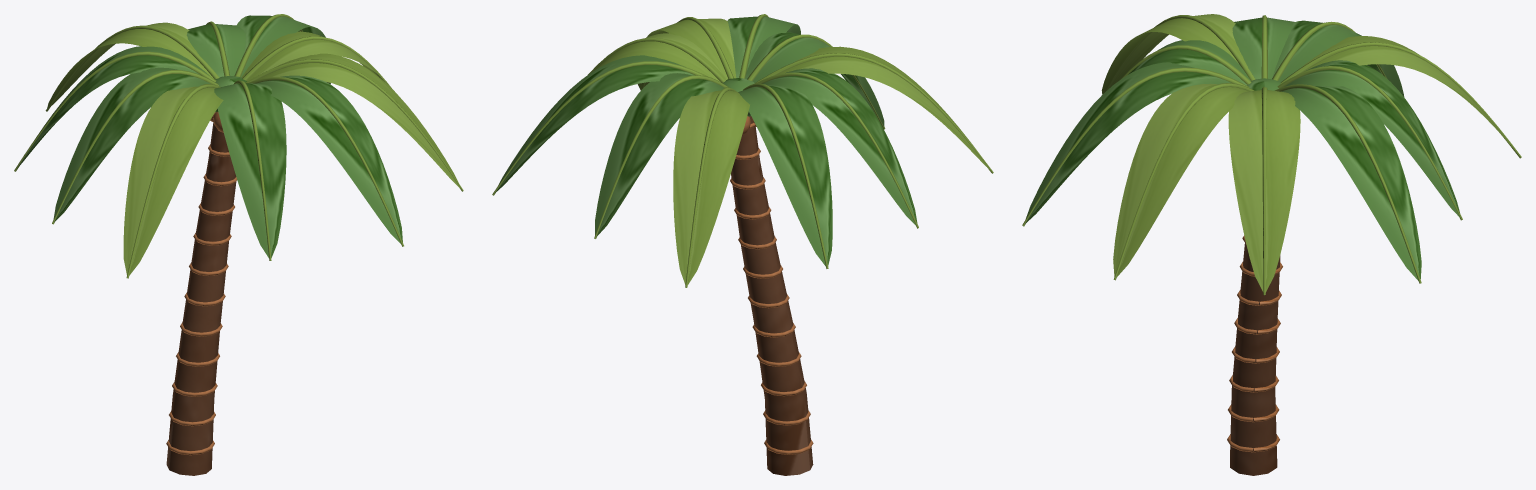
File: SM_Palm.glb
The picture shows the model from 3 angles, left to right: view 1: azimuth 30°, elevation 25°; view 2: azimuth 150°, elevation 25°; view 3: azimuth 270°, elevation 25°; orthographic projection. The views are drawn at different scales.
Parts seen in each view (by area): view 1: SM_Palm; view 2: SM_Palm; view 3: SM_Palm.
Boxes of the visible parts, x1,y1,x2,y2 form: SM_Palm: (14, 14, 463, 475); SM_Palm: (492, 14, 993, 475); SM_Palm: (1022, 14, 1521, 475).
Bounding box in the file's own units: 3.38 × 3.46 × 3.61.
1 material, 1 textured.
